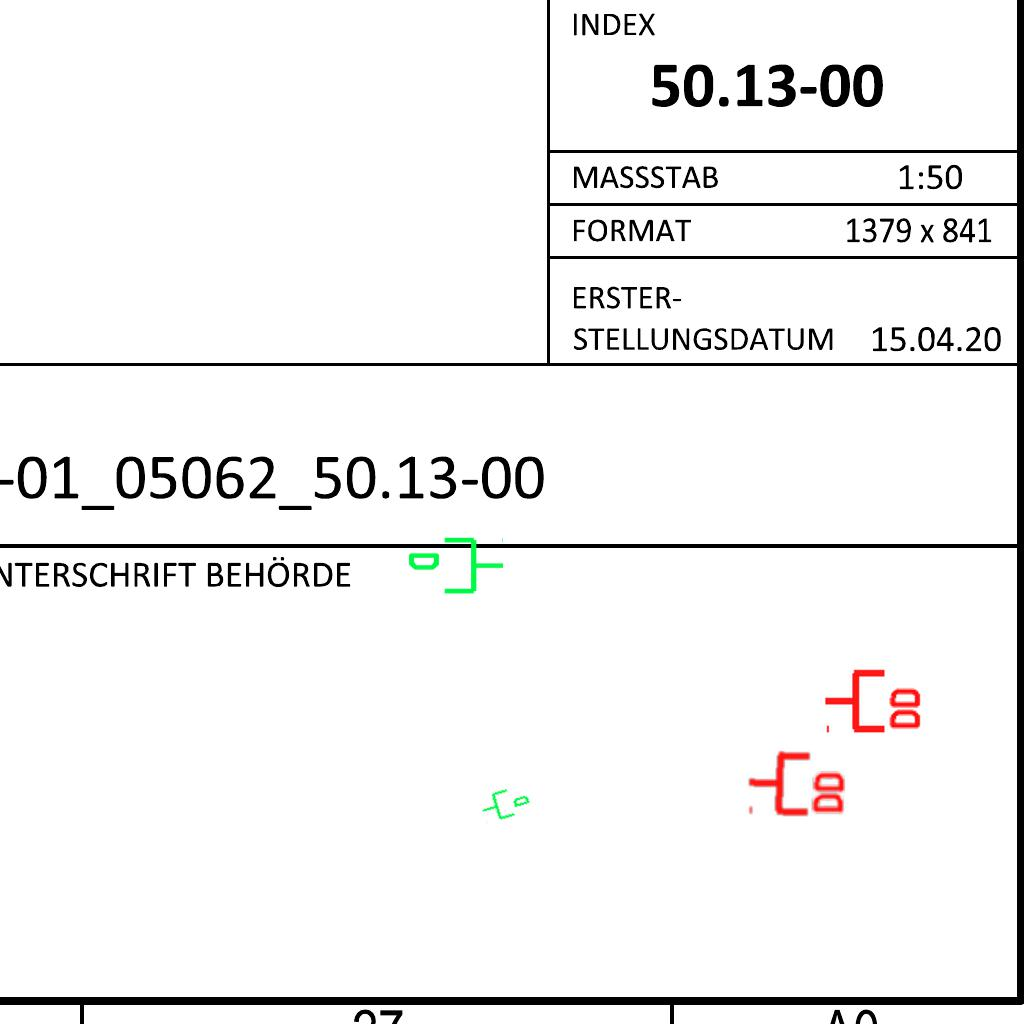Datenanschluss_einfach: (406, 533, 506, 602), (476, 779, 534, 827)
Datenanschluss_zweifach: (744, 746, 851, 819), (822, 665, 925, 734)
